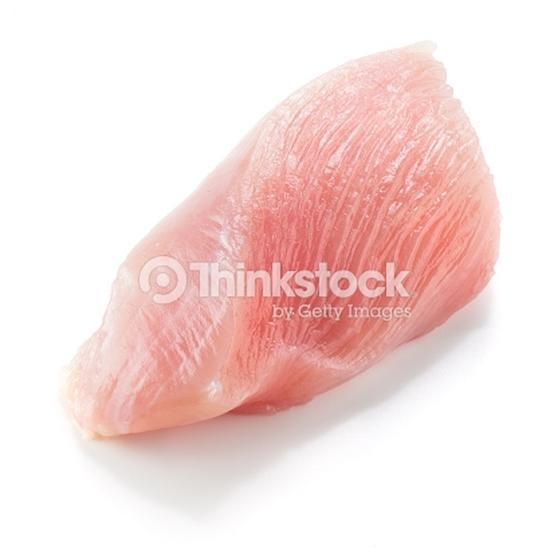chicken_fillet: (86, 32, 502, 466)
